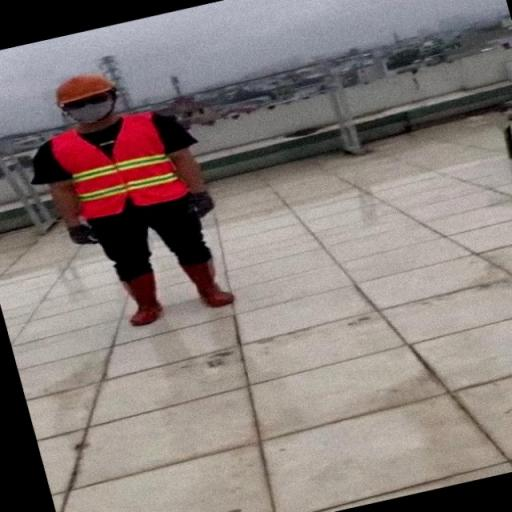Person: (35, 64, 245, 330)
boots: (183, 253, 238, 310), (126, 267, 164, 327)
gloves: (63, 216, 101, 250), (186, 188, 217, 217)
goggles: (62, 94, 124, 108)
helmet: (53, 66, 112, 108)
vest: (50, 116, 193, 202)
